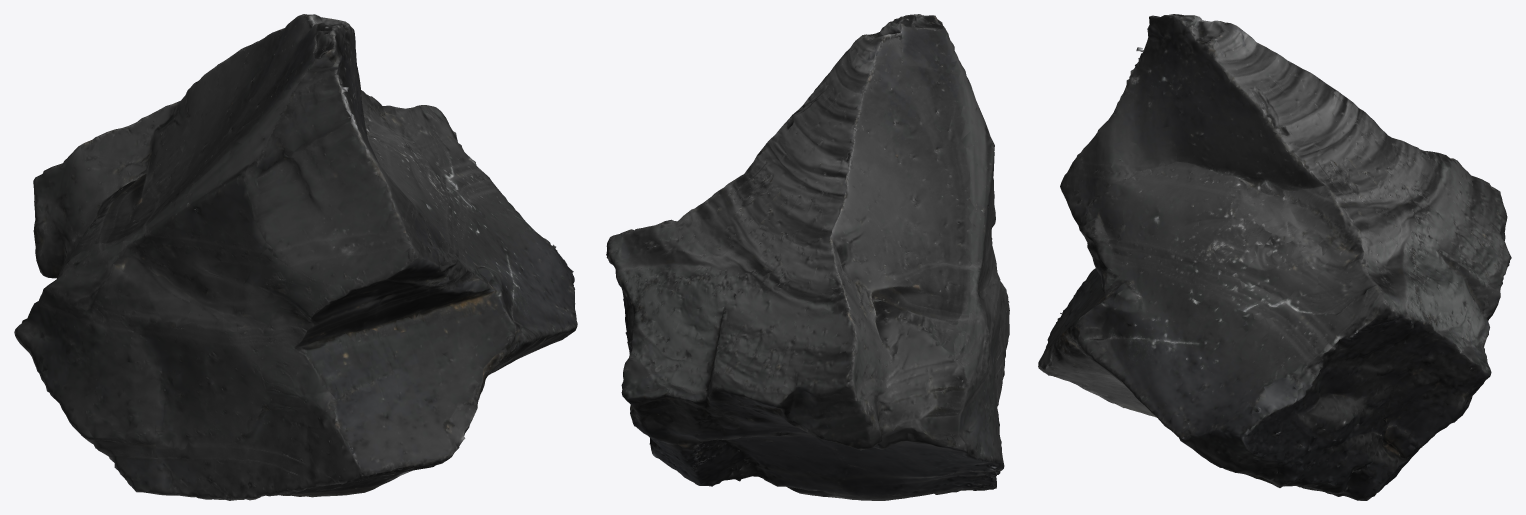
The model's file is 11_黑曜石.glb.
3 views of the same model, side by side, from view 1: azimuth 30°, elevation 25°; view 2: azimuth 150°, elevation 25°; view 3: azimuth 270°, elevation 25° (orthographic). The views are drawn at different scales.
Visible parts, largest first — view 1: Object_2; view 2: Object_2; view 3: Object_2.
Boxes of the visible parts, x1,y1,x2,y2 form: Object_2: (14,14,577,500); Object_2: (606,14,1009,500); Object_2: (1038,14,1511,500).
Size of the model in its own units: 3.9 by 3.91 by 3.86.
Materials: 1 (1 with a texture image).
